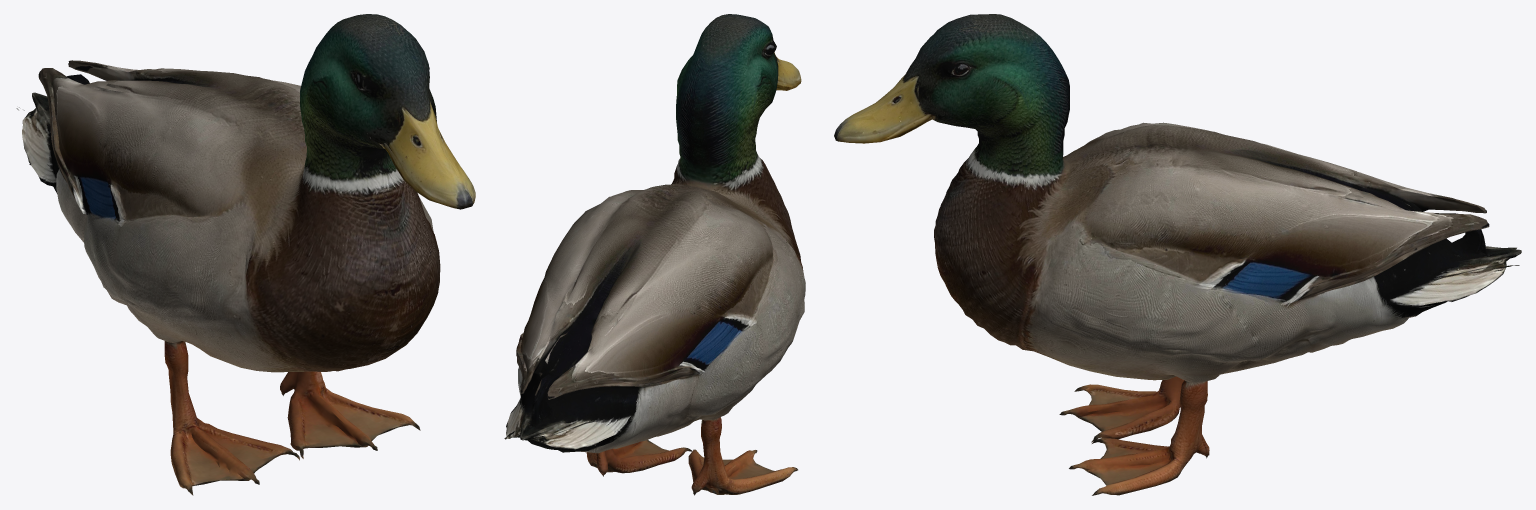
Rendered from duck.glb.
The picture shows the model from 3 angles, left to right: view 1: azimuth 30°, elevation 25°; view 2: azimuth 150°, elevation 25°; view 3: azimuth 270°, elevation 25°; orthographic projection. The views are drawn at different scales.
Visible parts, largest first — view 1: 0dc415f4-b7ca-43d2-9760-ce3a6c80f03f_1; view 2: 0dc415f4-b7ca-43d2-9760-ce3a6c80f03f_1; view 3: 0dc415f4-b7ca-43d2-9760-ce3a6c80f03f_1.
Boxes of the visible parts, x1,y1,x2,y2 form: 0dc415f4-b7ca-43d2-9760-ce3a6c80f03f_1: [16, 14, 475, 495]; 0dc415f4-b7ca-43d2-9760-ce3a6c80f03f_1: [504, 14, 805, 495]; 0dc415f4-b7ca-43d2-9760-ce3a6c80f03f_1: [834, 14, 1521, 495].
Size of the model in its own units: 0.4067 by 0.6956 by 0.9955.
Materials: 1 (1 with a texture image).
